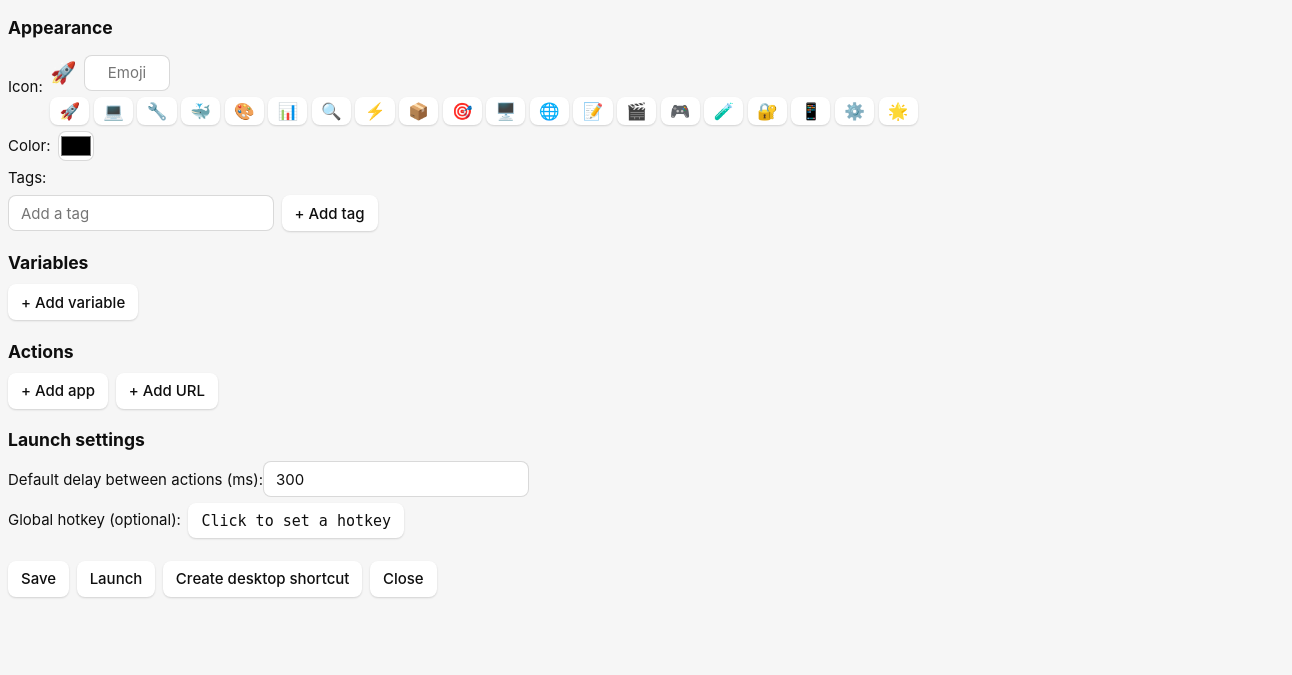
Test: WorkspaceEditor › launches a brand-new, never-saved workspace (#9)
Click the button "Launch" at (116, 579), box [77,561,155,597]
(page scrolled)
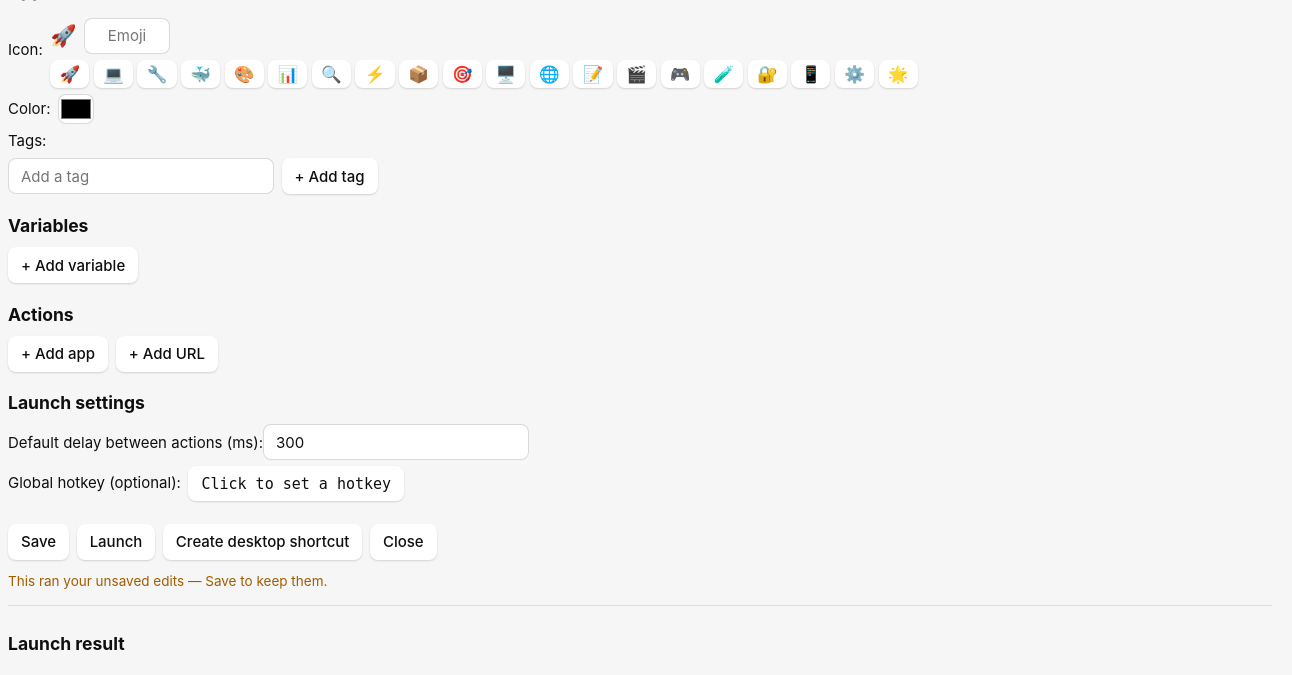
Result: the heading "Launch result" is shown at [8,633,125,654]
